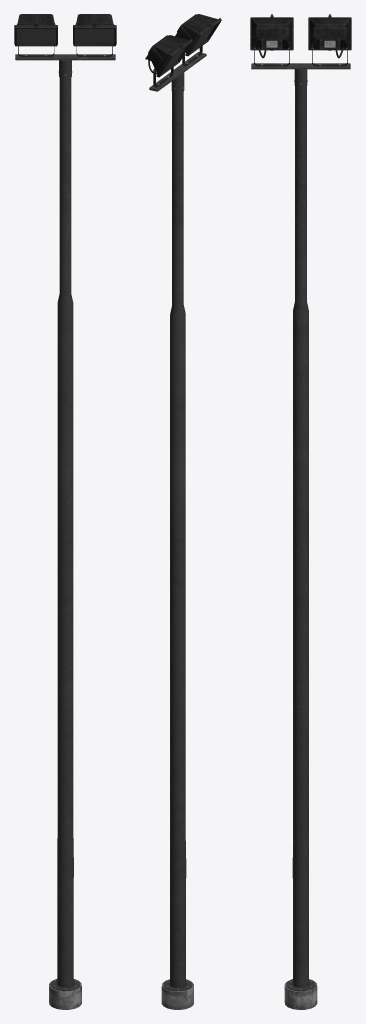
Rendered from SM_FloodLight_1.fbx.
3 renders of one model, left to right at view 1: azimuth 90°, elevation 25°; view 2: azimuth 150°, elevation 25°; view 3: azimuth 270°, elevation 25°, orthographic.
Parts seen in each view (by area): view 1: SM_FloodLight_1_LOD0; view 2: SM_FloodLight_1_LOD0; view 3: SM_FloodLight_1_LOD0.
Part boxes in pixels (x1,y1,x2,y2): SM_FloodLight_1_LOD0: (14,14,116,1009); SM_FloodLight_1_LOD0: (145,14,221,1009); SM_FloodLight_1_LOD0: (250,14,351,1009).
Size of the model in its own units: 39.1 by 102 by 1089.
3 materials, 2 textured.
